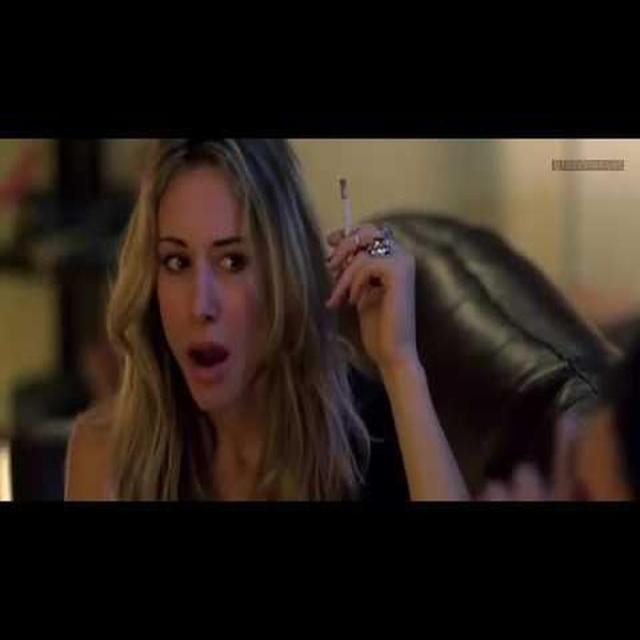smoking: (112, 143, 426, 424)
